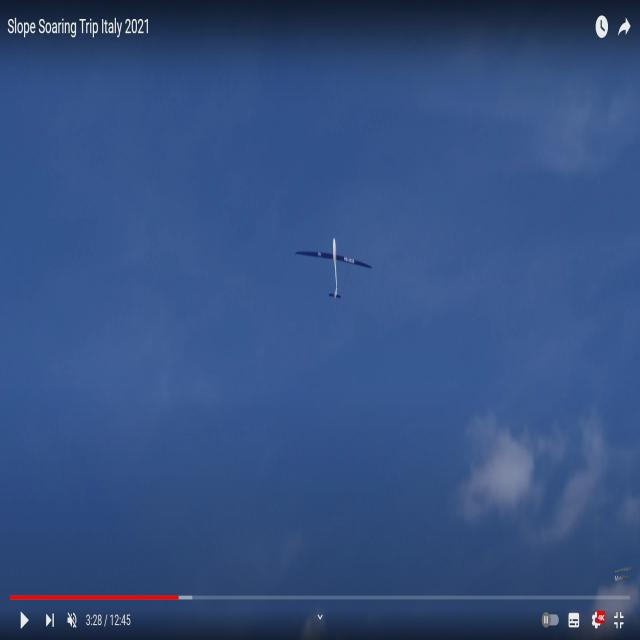iha: (325, 232, 341, 292)
